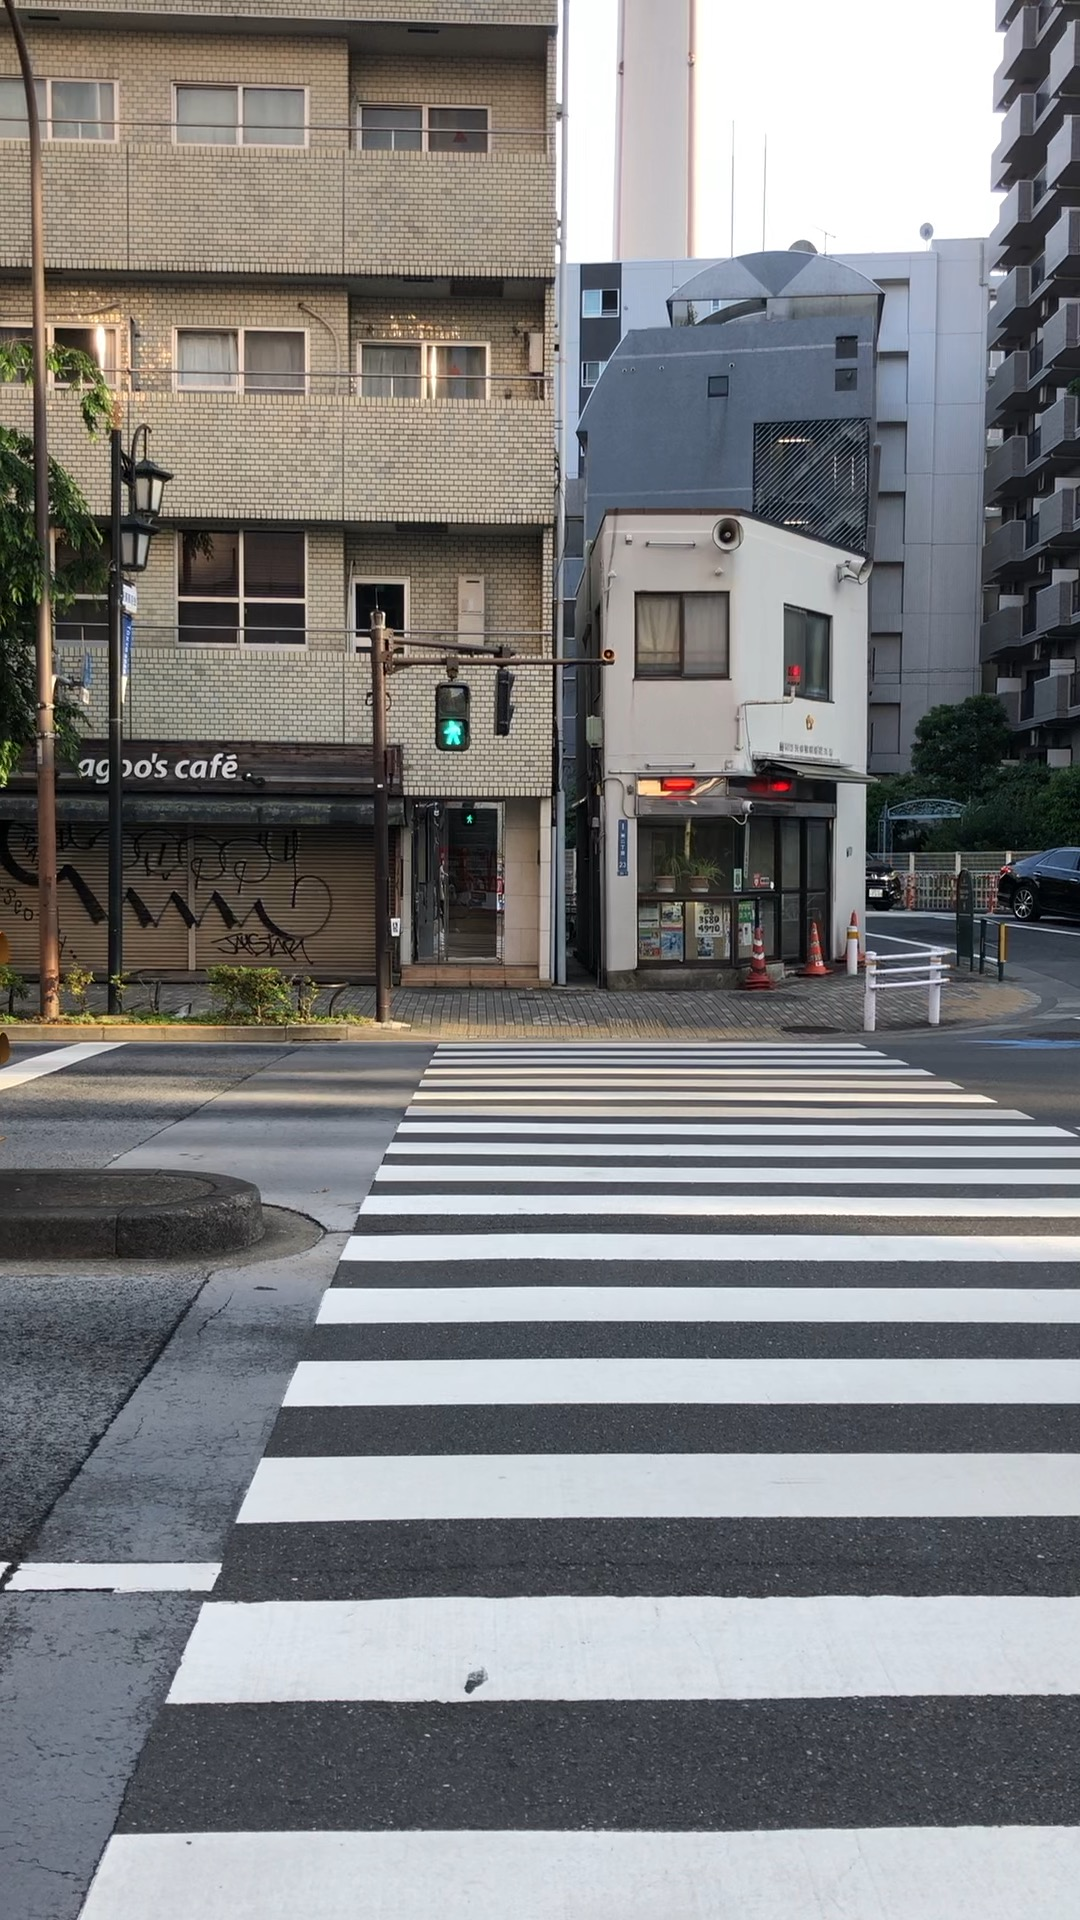green: (433, 683, 469, 752)
